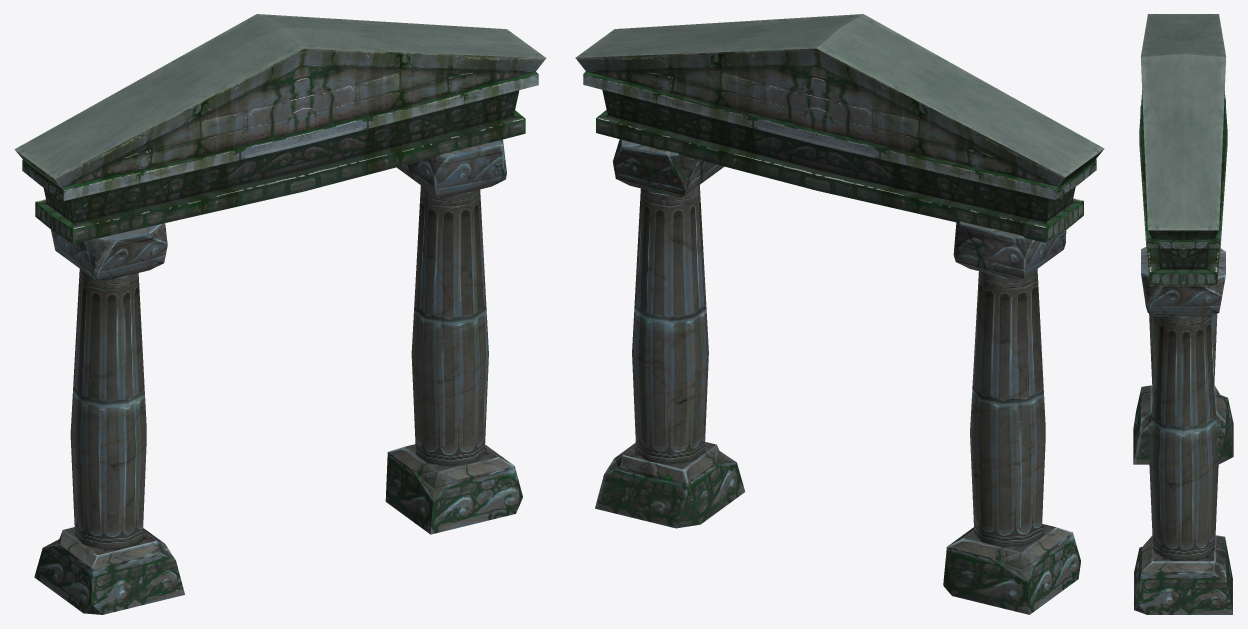
The model's file is stemple_pediment_01.fbx.
3 views of the same model, side by side, from view 1: azimuth 30°, elevation 25°; view 2: azimuth 150°, elevation 25°; view 3: azimuth 270°, elevation 25° (orthographic). The views are drawn at different scales.
Visible parts, largest first — view 1: stemple_pediment_01-0; view 2: stemple_pediment_01-0; view 3: stemple_pediment_01-0.
Part boxes in pixels (x1,y1,x2,y2): stemple_pediment_01-0: (14,14,546,614); stemple_pediment_01-0: (575,14,1104,614); stemple_pediment_01-0: (1133,14,1233,614).
Size of the model in its own units: 11.54 by 11.56 by 2.26.
